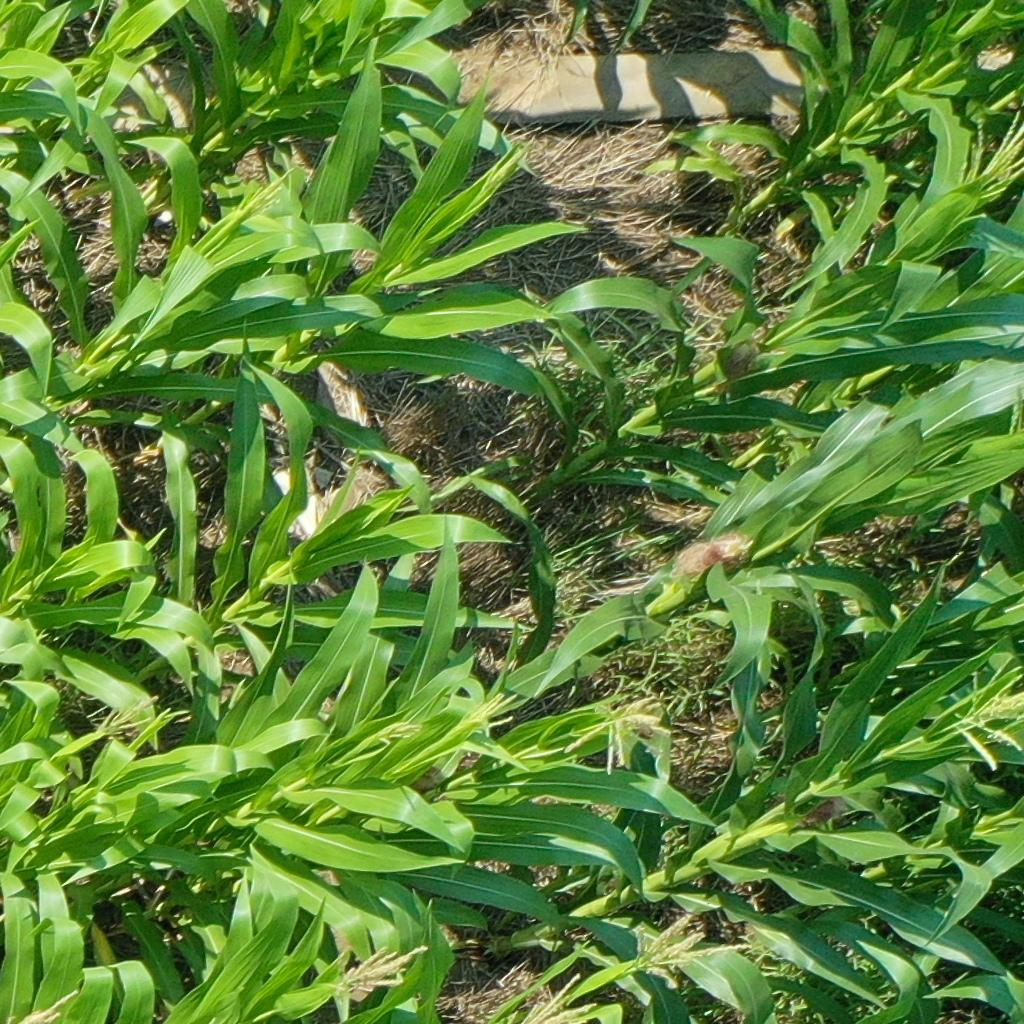Tassel: (629, 908, 755, 987), (562, 689, 675, 775), (946, 659, 1024, 771), (961, 101, 1024, 202), (335, 940, 431, 999), (89, 690, 192, 740), (515, 969, 598, 1024), (233, 163, 298, 222), (454, 689, 520, 736), (13, 987, 76, 1024), (374, 719, 423, 748), (1003, 384, 1023, 433)
